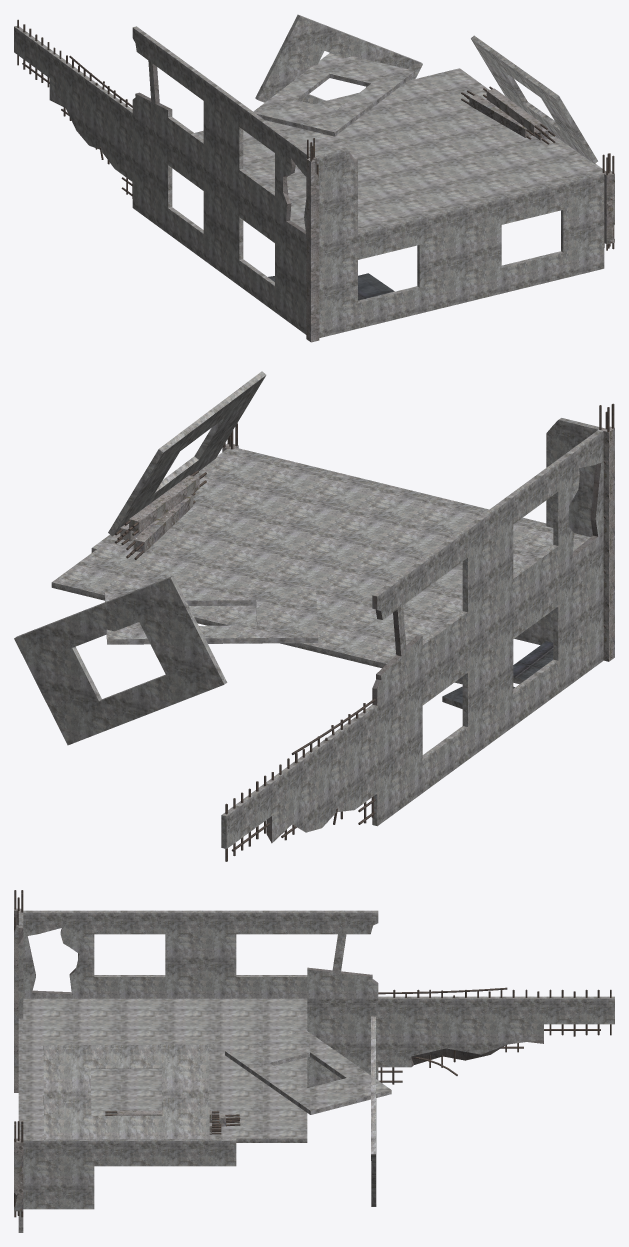
File: stroika_1.FBX
3 views of the same model, one above another, from view 1: azimuth 30°, elevation 25°; view 2: azimuth 150°, elevation 25°; view 3: azimuth 270°, elevation 25° (orthographic). The views are drawn at different scales.
Parts seen in each view (by area): view 1: Box001, Object001, Cylinder033, Cylinder005, Object002, floor; view 2: Box001, Object001, Object002, Cylinder033, floor, Cylinder005; view 3: Box001, Object001, Cylinder033, Object002, Cylinder005.
Boxes of the visible parts, box(x1,y1,x2,y2) form: Box001: box(14, 14, 605, 337); Object001: box(306, 88, 614, 342); Cylinder033: box(17, 19, 132, 198); Cylinder005: box(307, 86, 614, 250); Object002: box(136, 64, 613, 237); floor: box(268, 273, 394, 300); Box001: box(14, 371, 603, 848); Object001: box(120, 426, 614, 661); Object002: box(266, 463, 601, 843); Cylinder033: box(225, 698, 375, 861); floor: box(442, 641, 553, 703); Cylinder005: box(115, 403, 614, 559); Box001: box(18, 910, 614, 1232); Object001: box(14, 908, 225, 1211); Cylinder033: box(378, 987, 611, 1084); Object002: box(14, 910, 543, 1205); Cylinder005: box(14, 890, 240, 1217).
Size of the model in its own units: 291 by 183 by 500.
Materials: 5 (5 with a texture image).
